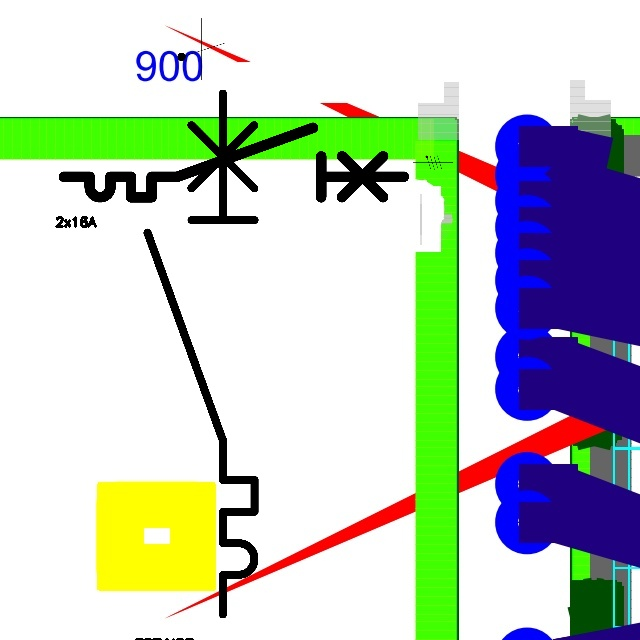interruptor_termomagnetico: (134, 79, 268, 627), (55, 119, 412, 206)
